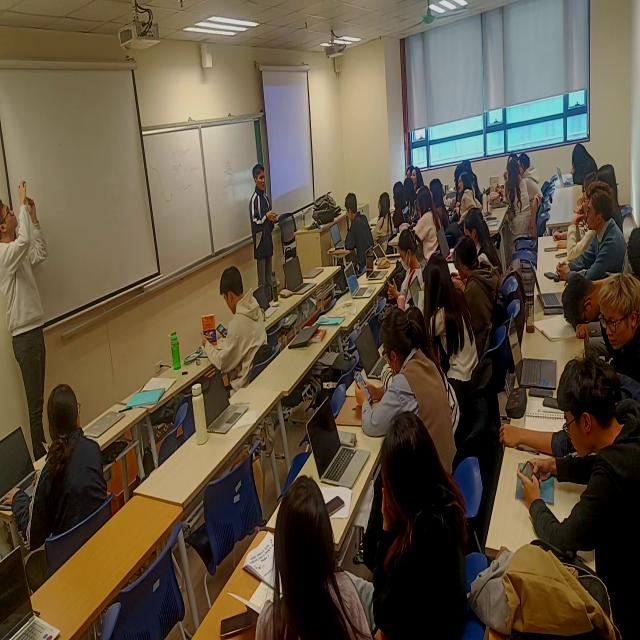raise_head: (14, 368, 113, 564), (261, 471, 372, 640), (562, 181, 628, 286), (453, 173, 485, 246), (372, 195, 392, 251), (411, 166, 426, 204)
sleep: (561, 267, 606, 355), (572, 144, 598, 189)
stand: (1, 164, 56, 471), (250, 161, 281, 302)
using_computer: (424, 247, 480, 399), (333, 192, 375, 276)
using_phone: (515, 352, 640, 640), (376, 410, 468, 639), (350, 302, 459, 471), (559, 269, 640, 400), (201, 261, 273, 383), (455, 230, 503, 363), (386, 232, 425, 313), (496, 261, 529, 351), (415, 187, 445, 267), (464, 208, 501, 267), (596, 167, 625, 237), (430, 180, 454, 236), (392, 183, 410, 237)
